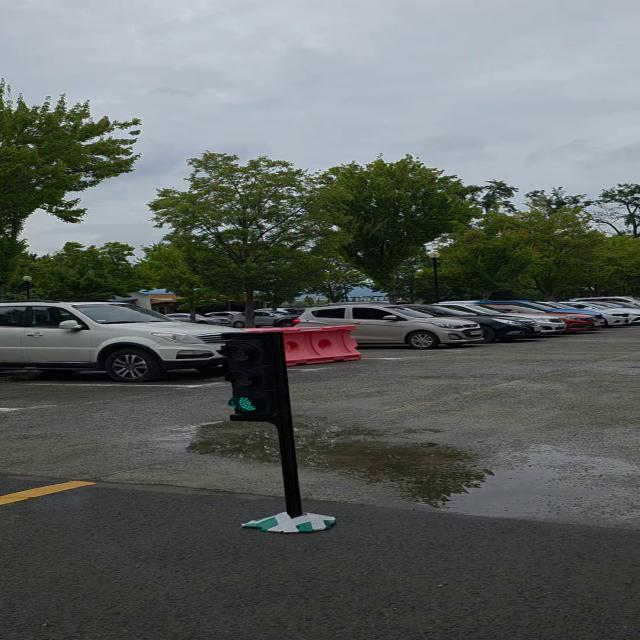green: (218, 330, 287, 424)
